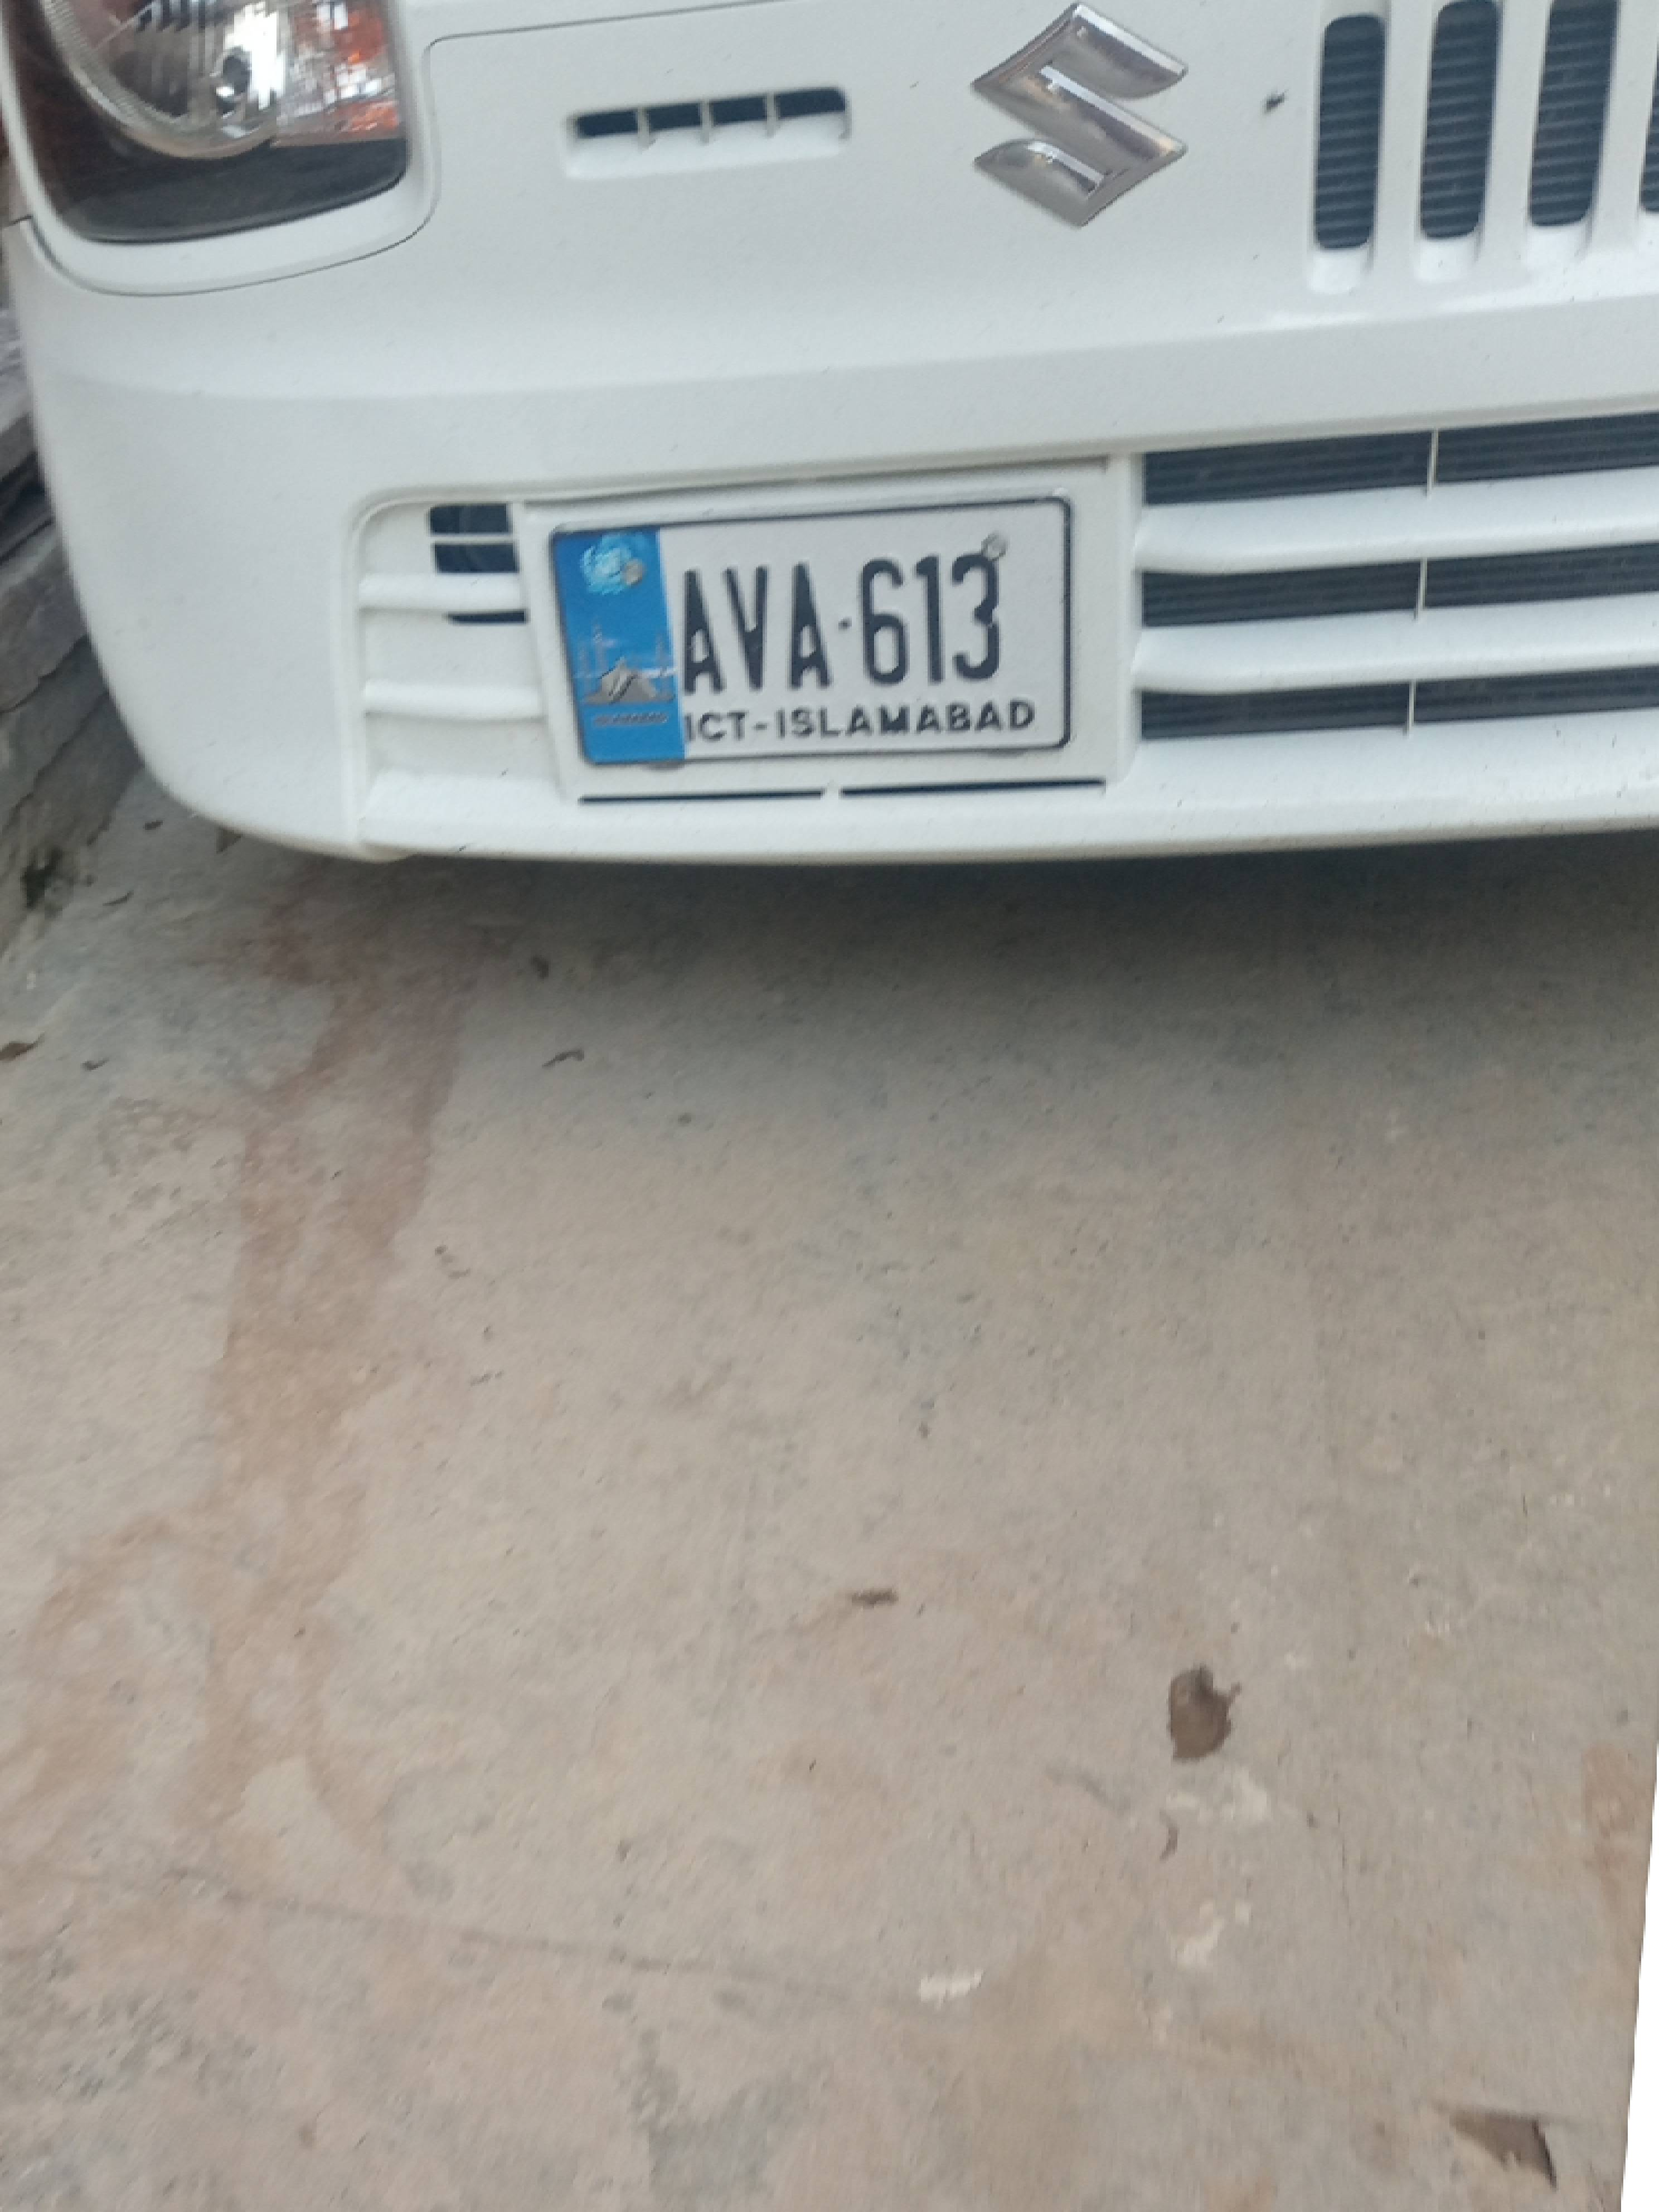number_plate: (550, 507, 1110, 768)
